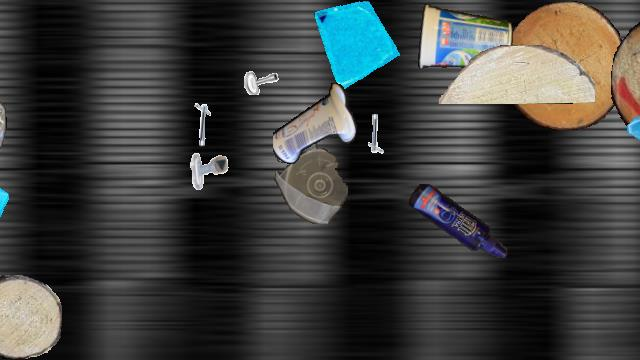glass: (313, 1, 405, 93), (625, 97, 640, 165), (0, 177, 10, 267)
metal: (181, 101, 235, 155), (232, 43, 284, 95), (345, 106, 395, 156), (188, 148, 230, 190), (637, 1, 640, 61)
plastic: (409, 184, 507, 258), (273, 81, 357, 167), (416, 1, 512, 71), (274, 135, 348, 223), (0, 101, 8, 247)
wood: (503, 1, 627, 129), (438, 45, 594, 103), (0, 275, 61, 359), (611, 20, 640, 142)
